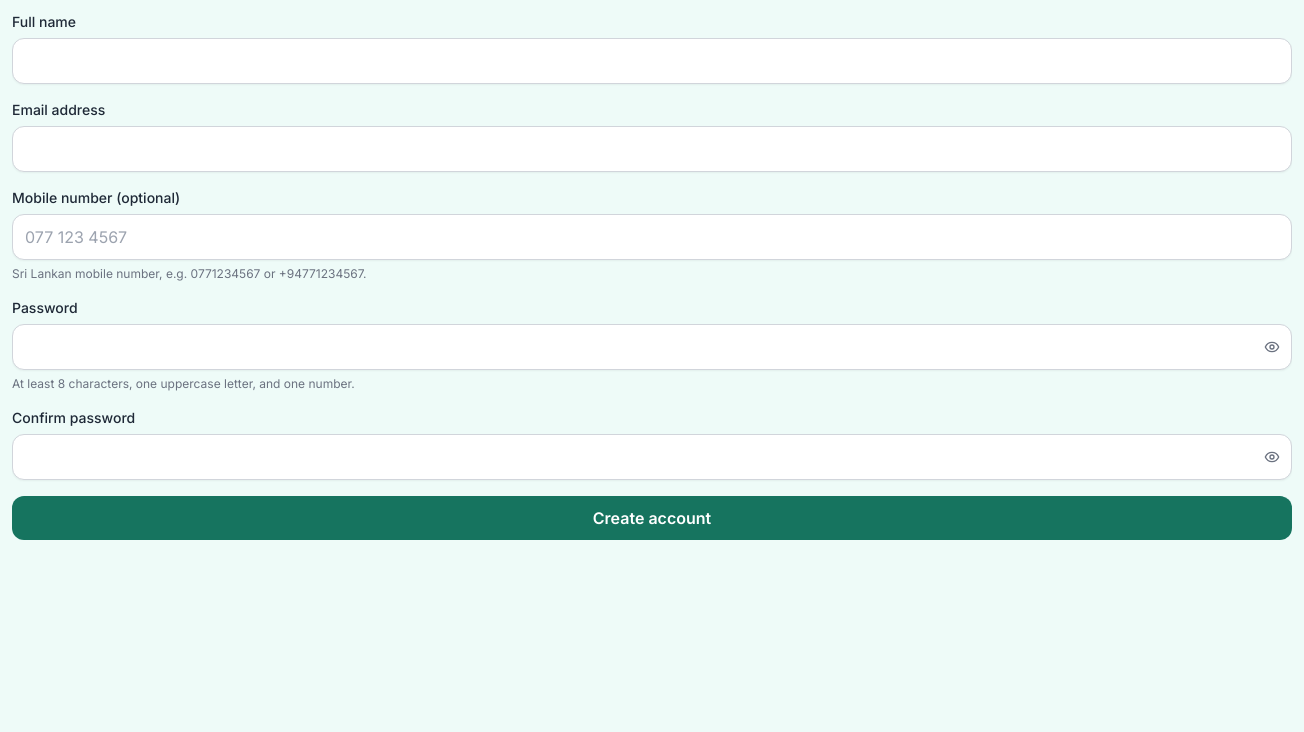
Test case: RegisterForm › rejects blank fields, short passwords, and malformed email addresses
Click the button "Create account". click: click(652, 518)
box: [12,496,1292,540]
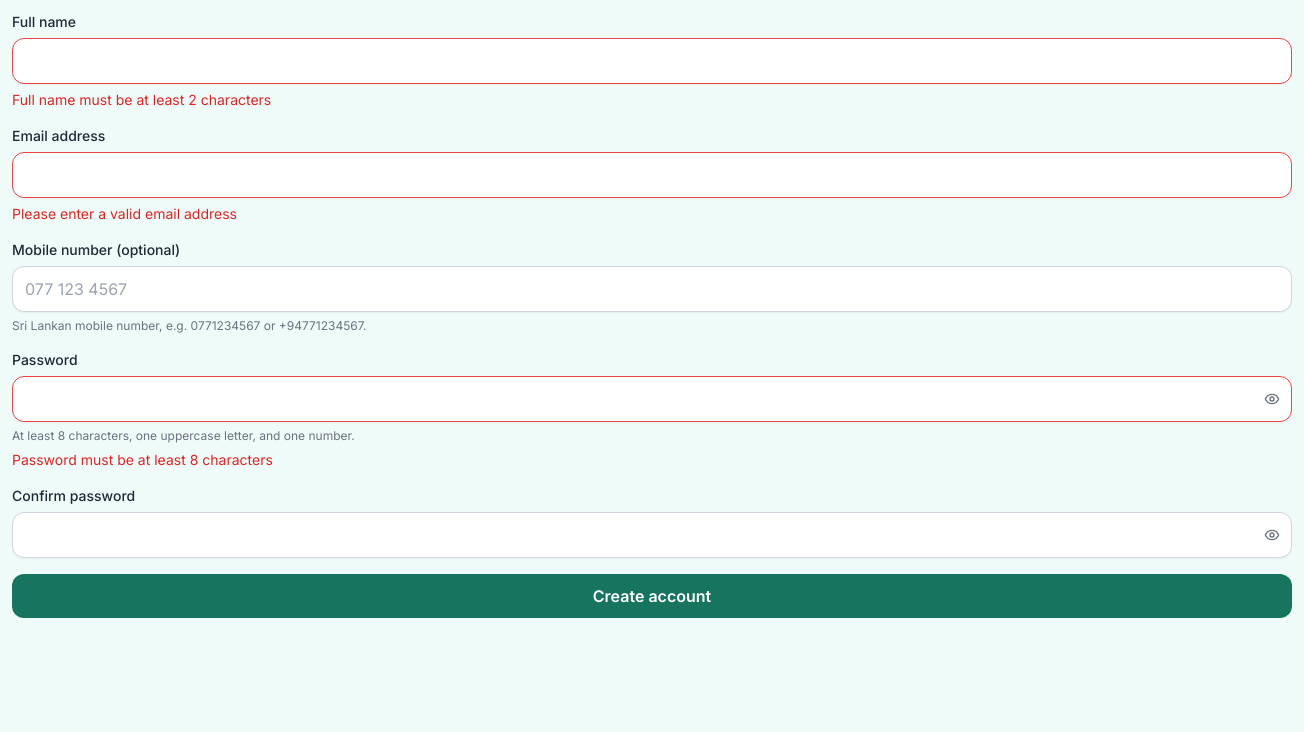
Expected: the text "Full name must be at least 2 characters" is shown, [12,91,271,108]
Expected: the text "Please enter a valid email address" is shown, [12,205,237,222]
Expected: the text "Password must be at least 8 characters" is shown, [12,451,273,468]
